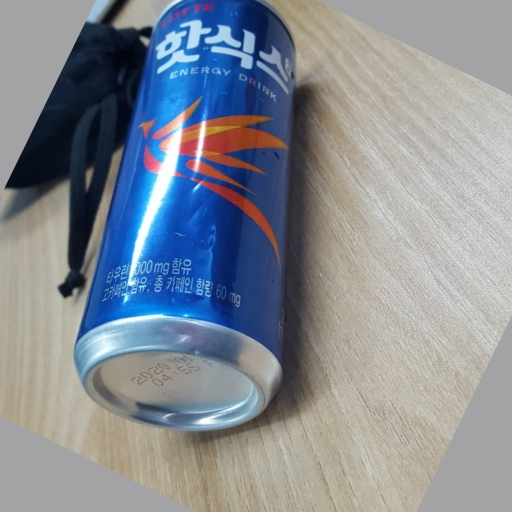Metal_0: (77, 1, 297, 435)
